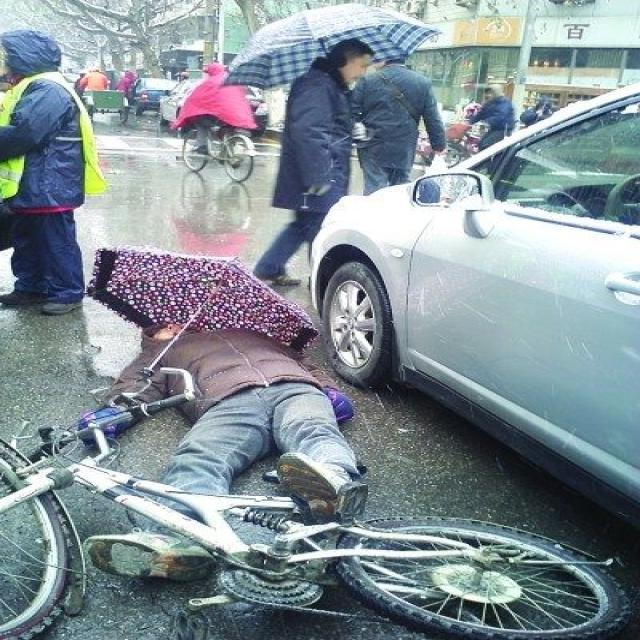10-: (0, 8, 638, 632)
down: (49, 280, 386, 590)
